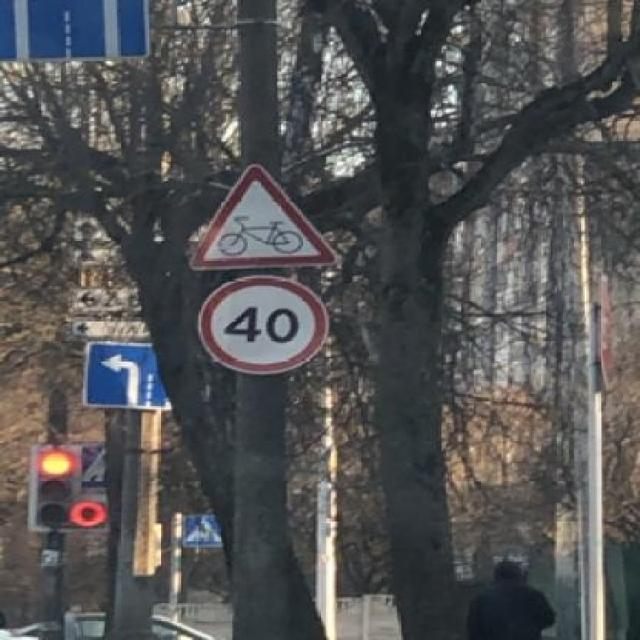forb_speed_over_40: (196, 277, 322, 372)
